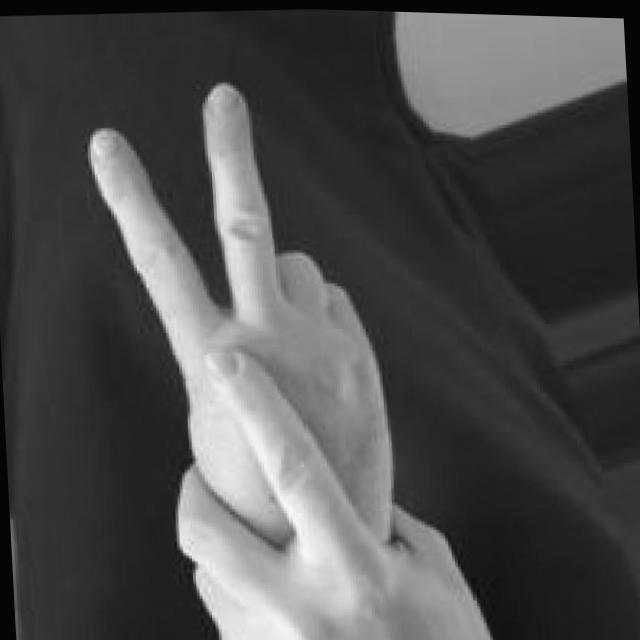Y: (83, 61, 488, 640)
